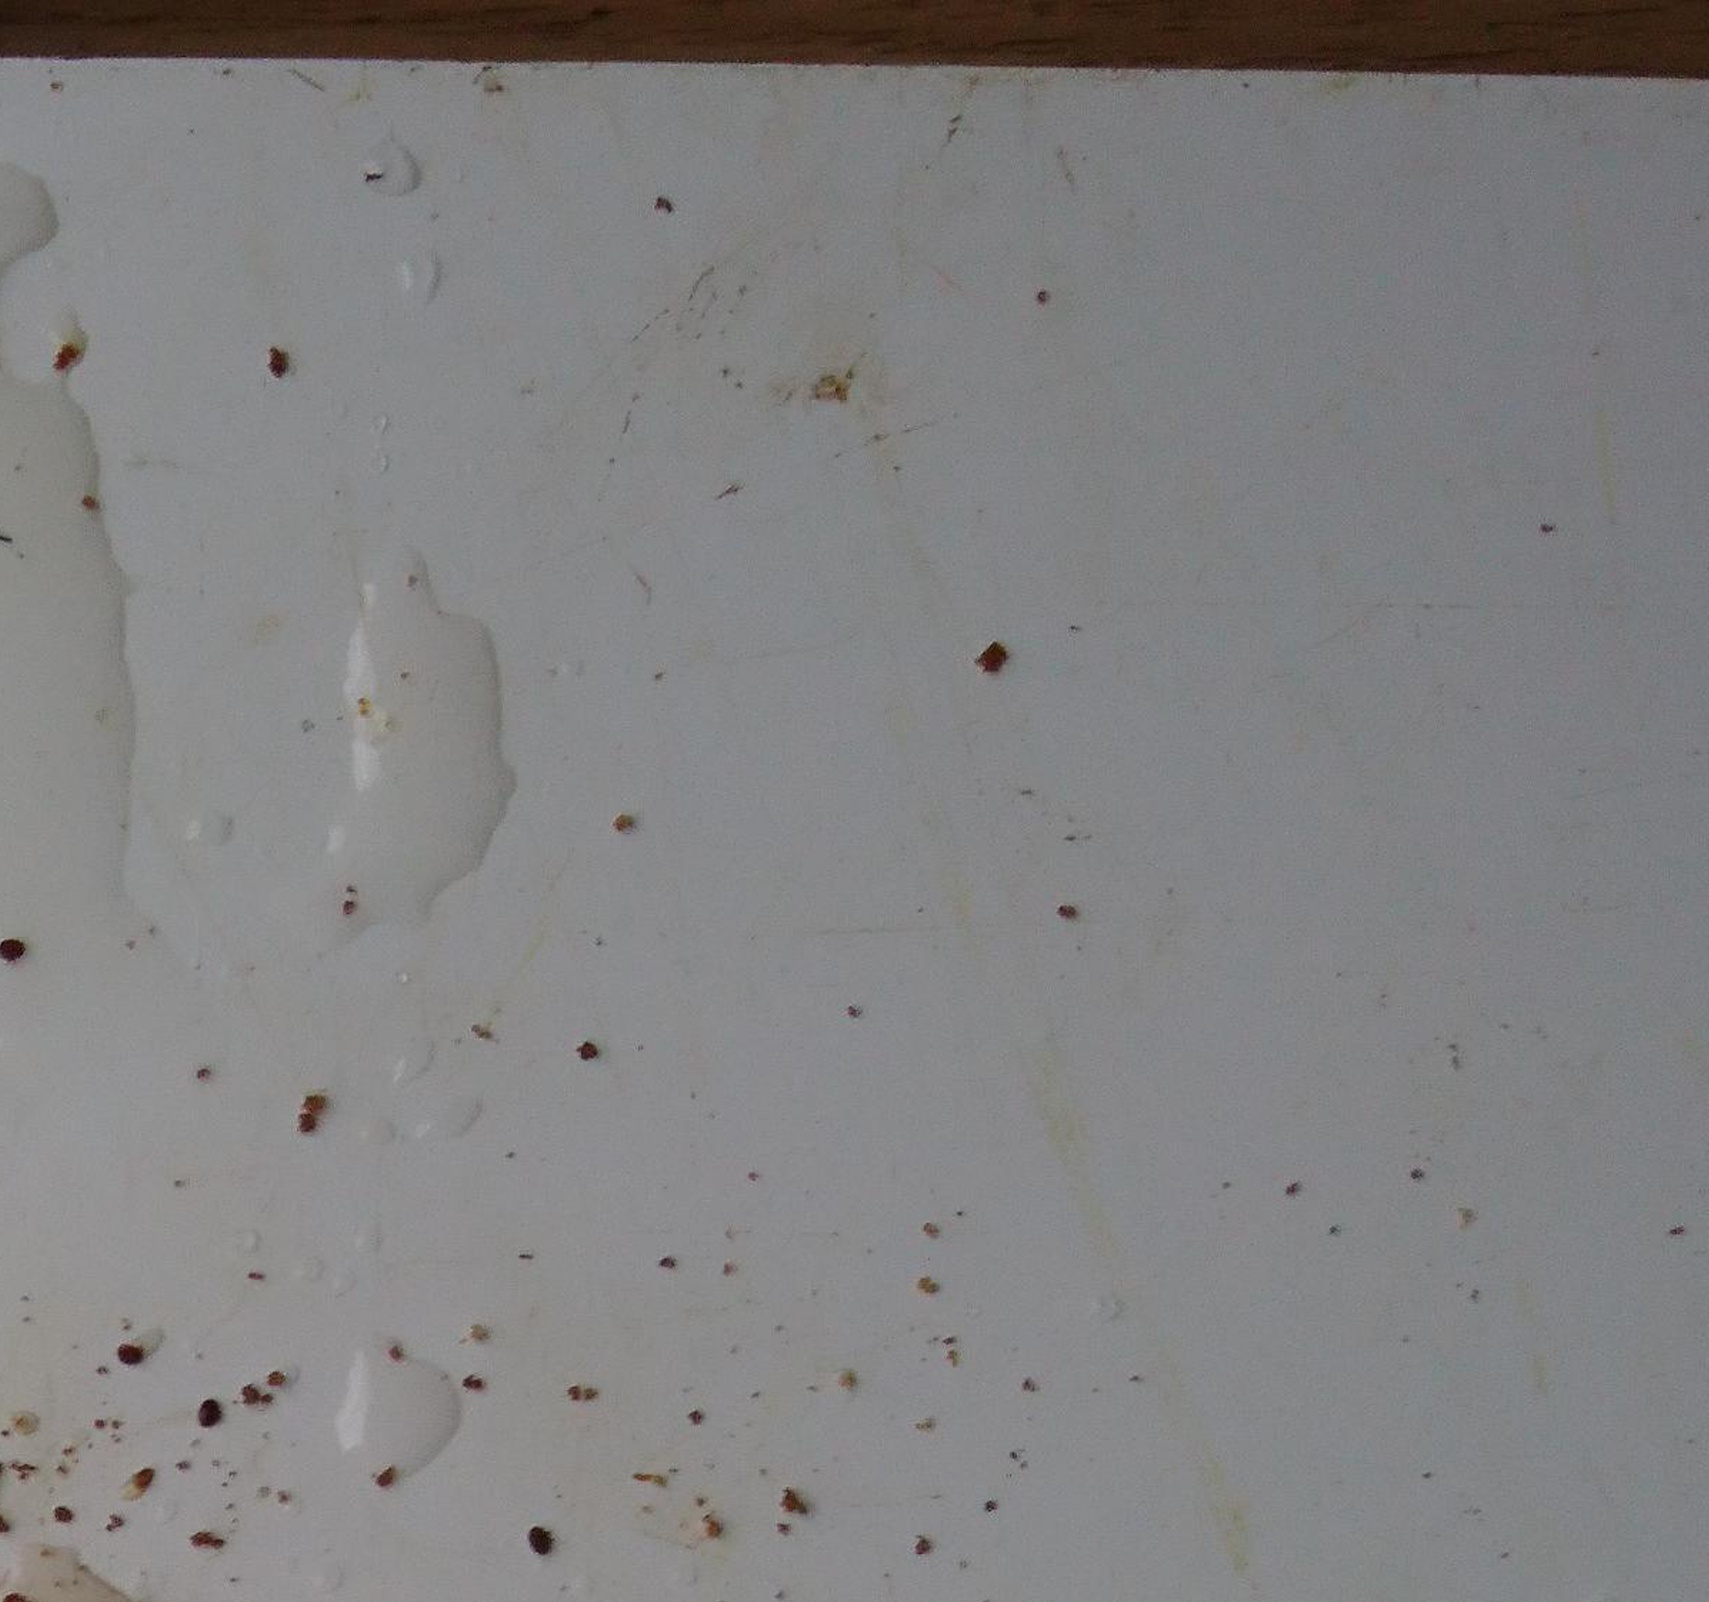Varroa: (196, 1400, 221, 1427), (123, 1349, 148, 1375), (541, 1530, 550, 1560)
